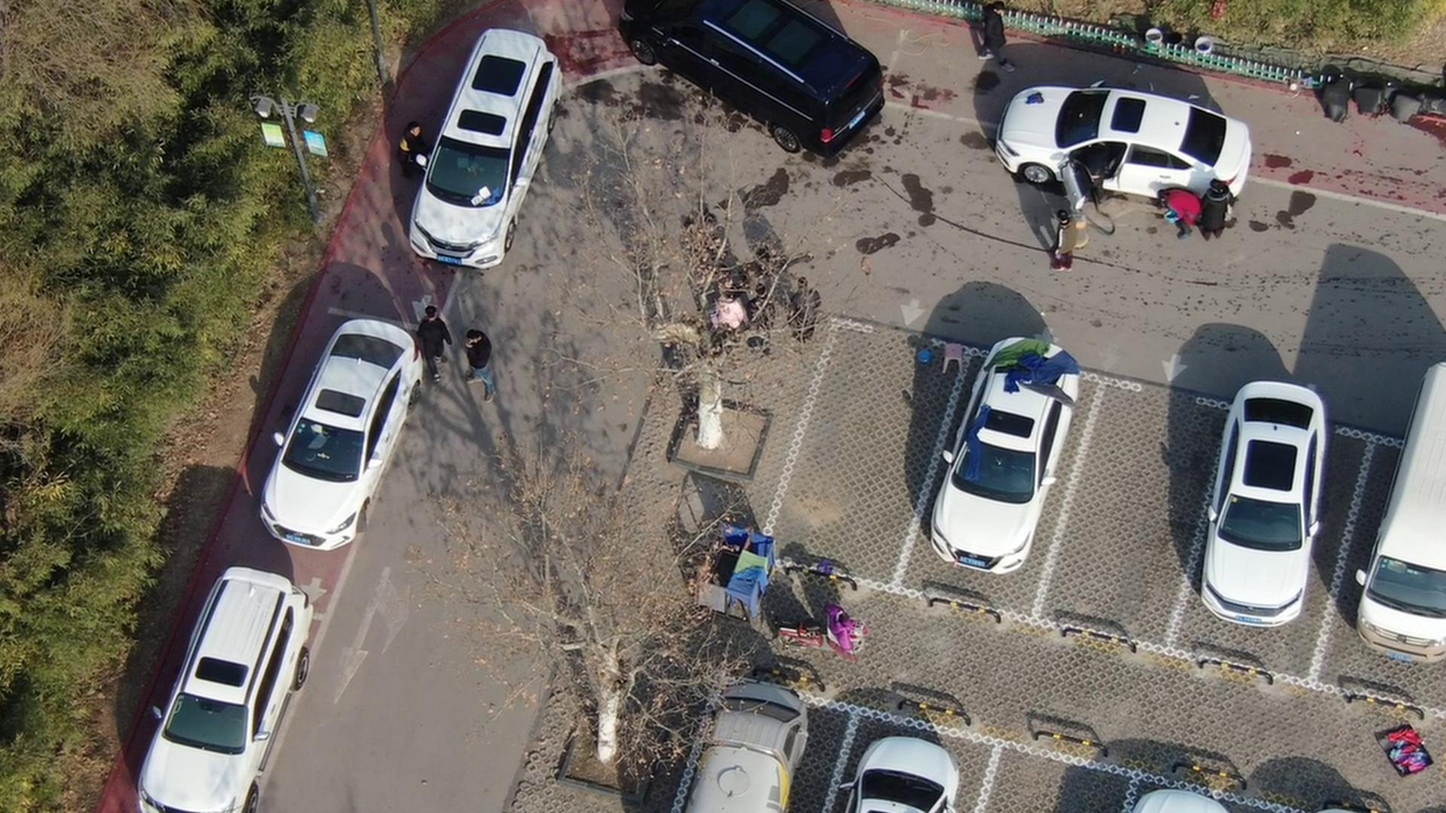human: (789, 271, 833, 352), (981, 1, 1028, 74), (1155, 178, 1203, 240), (422, 302, 458, 382), (465, 324, 502, 401), (398, 119, 438, 185), (1082, 139, 1122, 205), (749, 279, 782, 358), (1203, 177, 1238, 245), (1053, 198, 1083, 273)
